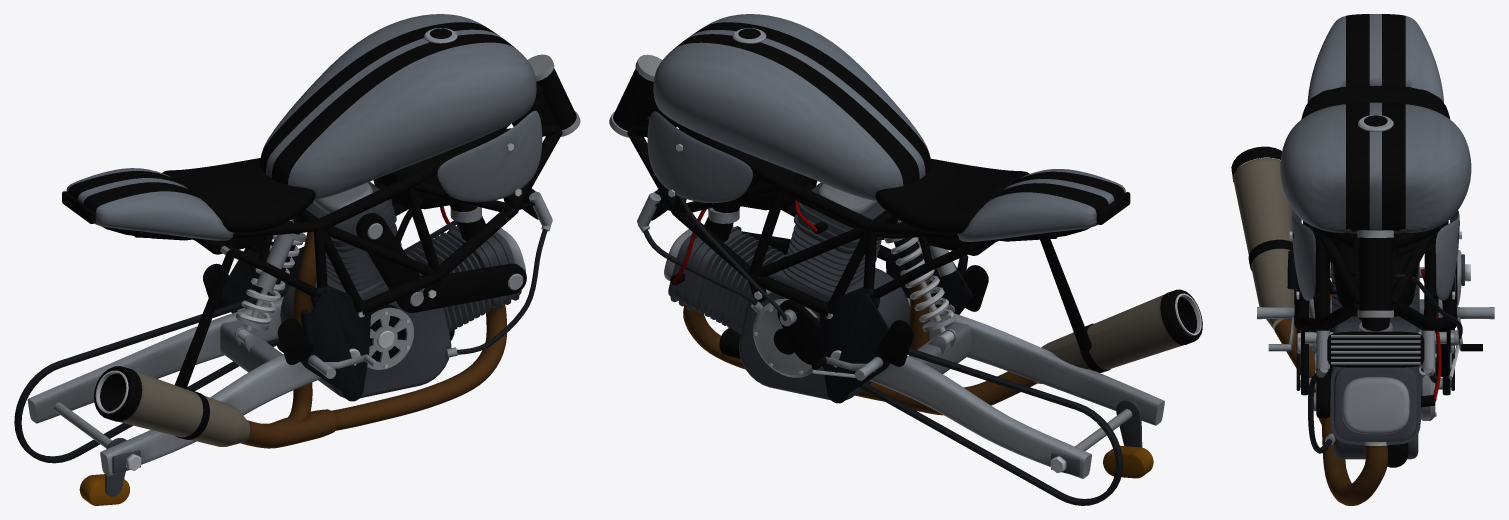
The model's file is bike_duetto_body.glb.
The picture shows the model from 3 angles, left to right: view 1: azimuth 30°, elevation 25°; view 2: azimuth 150°, elevation 25°; view 3: azimuth 270°, elevation 25°; orthographic projection. The views are drawn at different scales.
Parts seen in each view (by area): view 1: bk_tank, bk_tank_stripes, bk_seat, bk_shroud1, bk_arm-1, bk_tail, bk_can, bk_crankcase, bk_arm1, bk_headerF, bk_chain, bk_fr_bot1 (+32 smaller); view 2: bk_tank, bk_tank_stripes, bk_arm-1, bk_arm1, bk_seat, bk_shroud-1, bk_tail, bk_can, bk_crankcase, bk_chain, bk_rs_plate-1, bk_fr_bot-1 (+30 smaller); view 3: bk_tank, bk_can, bk_tank_stripes, bk_tail, bk_cylF_cover, bk_tail_stripes, bk_headerF, bk_cylF_head, bk_headstock, bk_seat, bk_oilcooler, bk_shroud1 (+31 smaller).
Boxes of the visible parts, <box> form: bk_tank: <box>260,14,536,200</box>; bk_tank_stripes: <box>260,22,515,184</box>; bk_seat: <box>162,158,315,232</box>; bk_shroud1: <box>437,110,542,202</box>; bk_arm-1: <box>27,296,283,423</box>; bk_tail: <box>66,168,234,240</box>; bk_can: <box>118,370,250,446</box>; bk_crankcase: <box>280,273,451,398</box>; bk_arm1: <box>100,354,321,476</box>; bk_headerF: <box>331,303,506,430</box>; bk_chain: <box>14,285,289,463</box>; bk_fr_bot1: <box>362,129,562,315</box>; bk_tank: <box>653,14,930,201</box>; bk_tank_stripes: <box>674,22,931,185</box>; bk_arm-1: <box>869,356,1091,478</box>; bk_arm1: <box>907,297,1164,425</box>; bk_seat: <box>875,158,1029,233</box>; bk_shroud-1: <box>647,111,752,203</box>; bk_tail: <box>957,169,1125,241</box>; bk_can: <box>1032,294,1183,383</box>; bk_crankcase: <box>739,268,910,400</box>; bk_chain: <box>815,317,1122,505</box>; bk_rs_plate-1: <box>828,293,890,401</box>; bk_fr_bot-1: <box>627,129,828,316</box>; bk_tank: <box>1280,102,1471,233</box>; bk_can: <box>1233,158,1296,329</box>; bk_tank_stripes: <box>1346,102,1405,231</box>; bk_tail: <box>1307,14,1443,102</box>; bk_cylF_cover: <box>1342,377,1409,434</box>; bk_tail_stripes: <box>1346,14,1405,86</box>; bk_headerF: <box>1321,409,1387,505</box>; bk_cylF_head: <box>1334,367,1417,441</box>; bk_headstock: <box>1359,237,1392,310</box>; bk_seat: <box>1301,85,1450,119</box>; bk_oilcooler: <box>1327,331,1424,367</box>; bk_shroud1: <box>1291,210,1315,300</box>.
Size of the model in its own units: 1.33 by 0.8767 by 0.5274.
